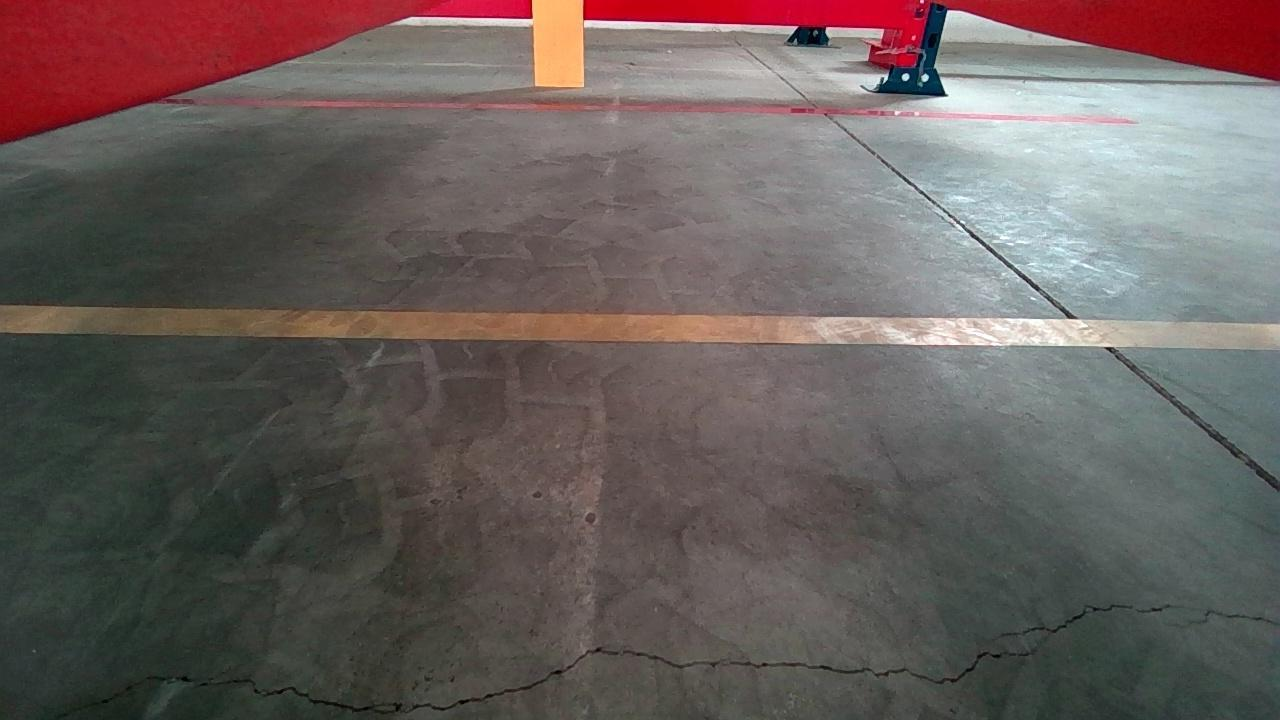orange_strip: (0, 304, 1279, 350), (529, 0, 586, 84)
red_line: (146, 95, 1139, 124)
